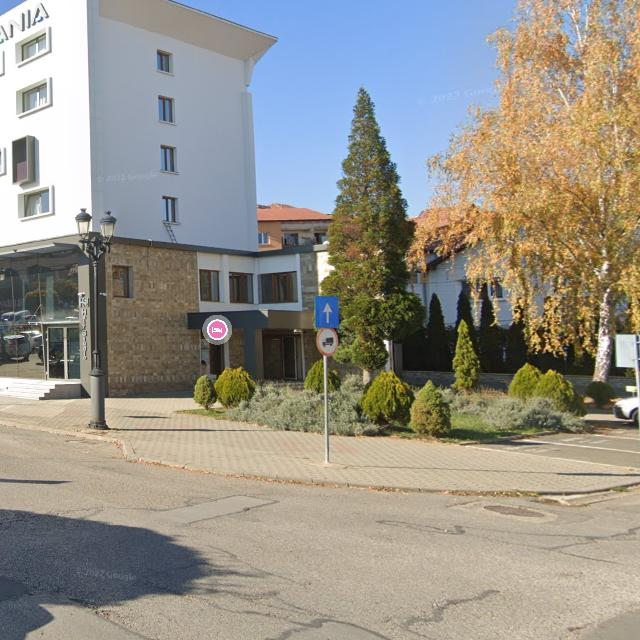forb_trucks: (317, 326, 338, 356)
info_one_way_traffic: (314, 296, 340, 328)
